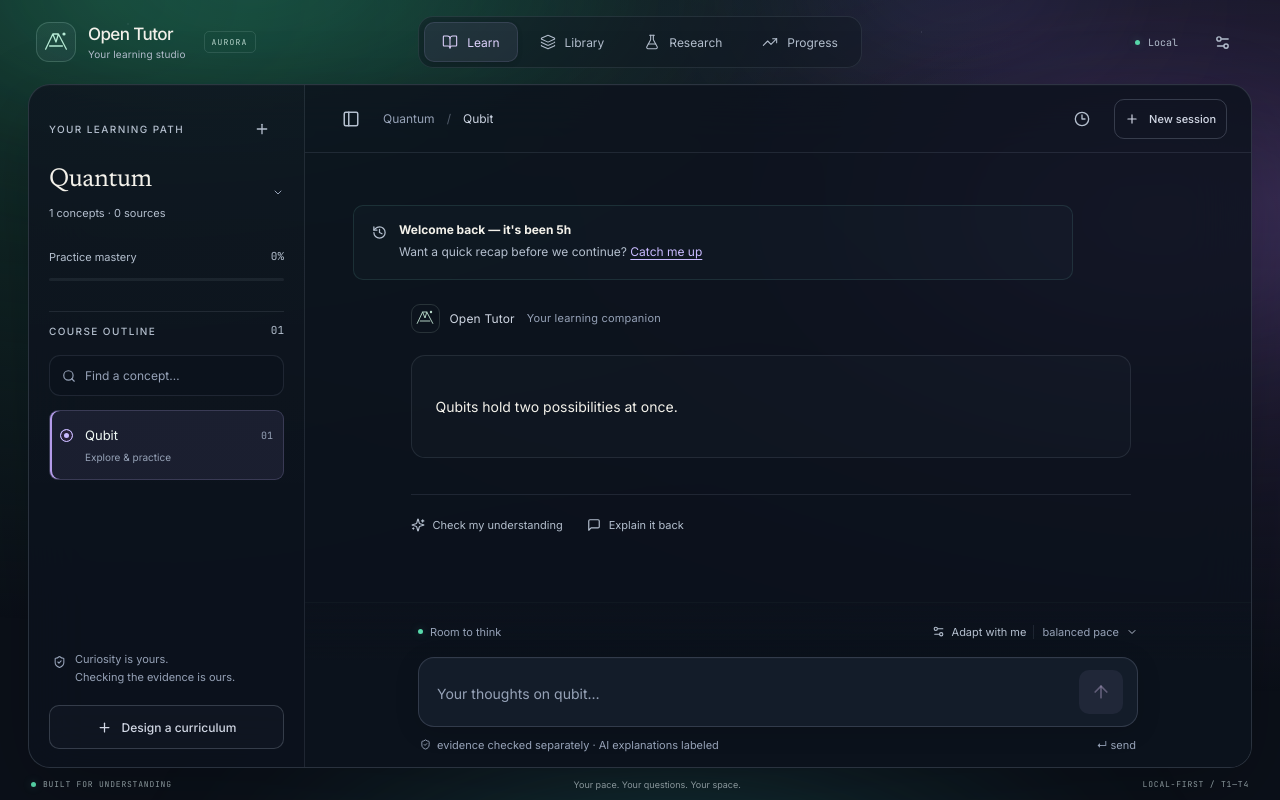
it: offers a one-tap catch-up after a same-day gap
Expected: the text "Welcome back — it's been 5h" is shown, [399, 222, 571, 237]
What coordinates should you click on to do the following:
click the button "Catch me up"
I would click on:
 (666, 252)
Its box is [630, 241, 702, 263].
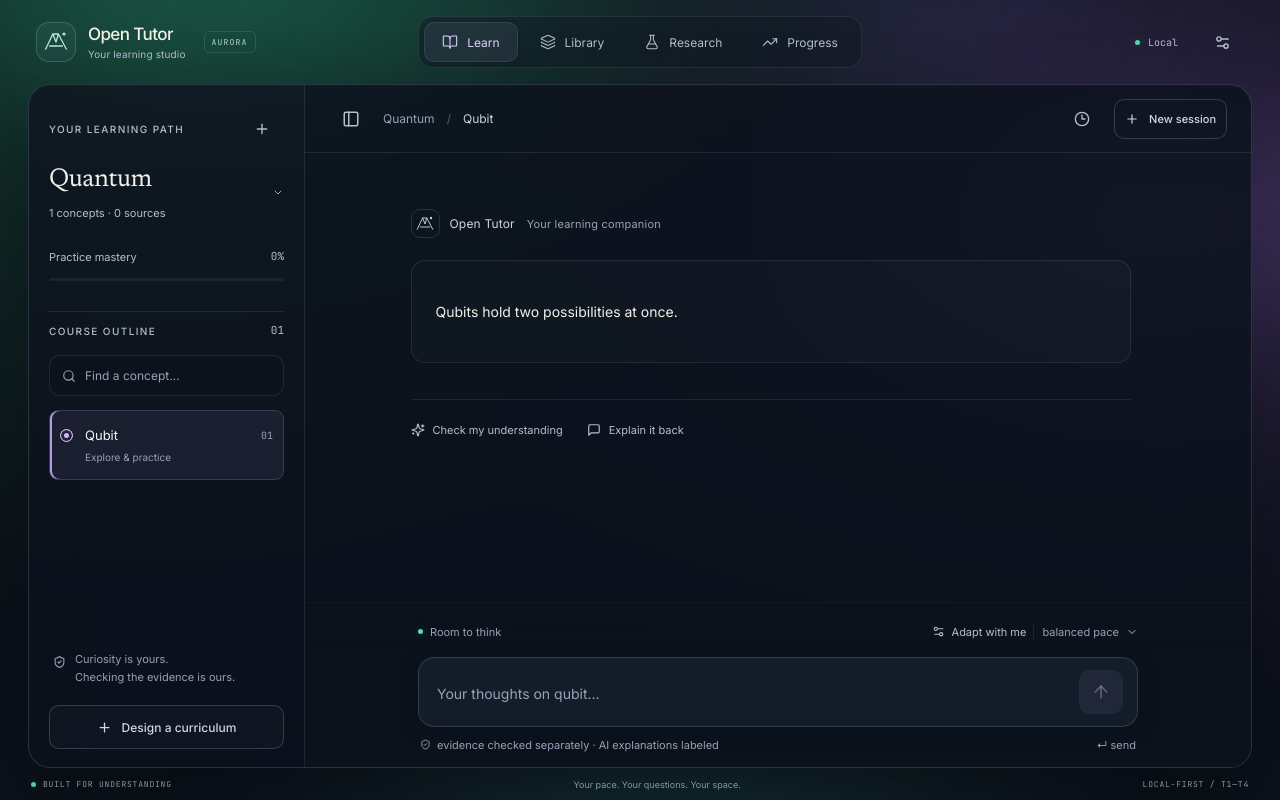
Expected: the text "Welcome back" is gone
